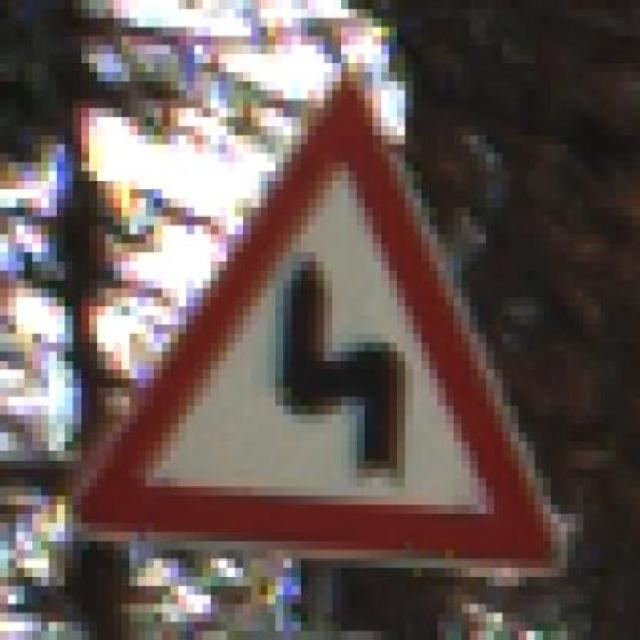Left Zig Zag Traffic: (48, 72, 584, 577)
